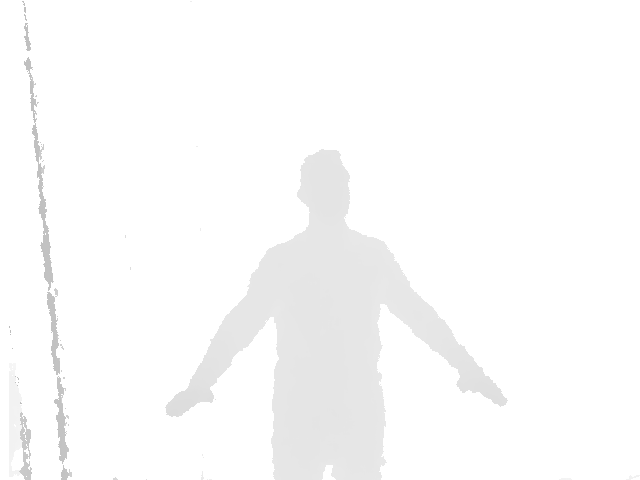head: (296, 150, 351, 222)
person: (167, 150, 508, 480)
